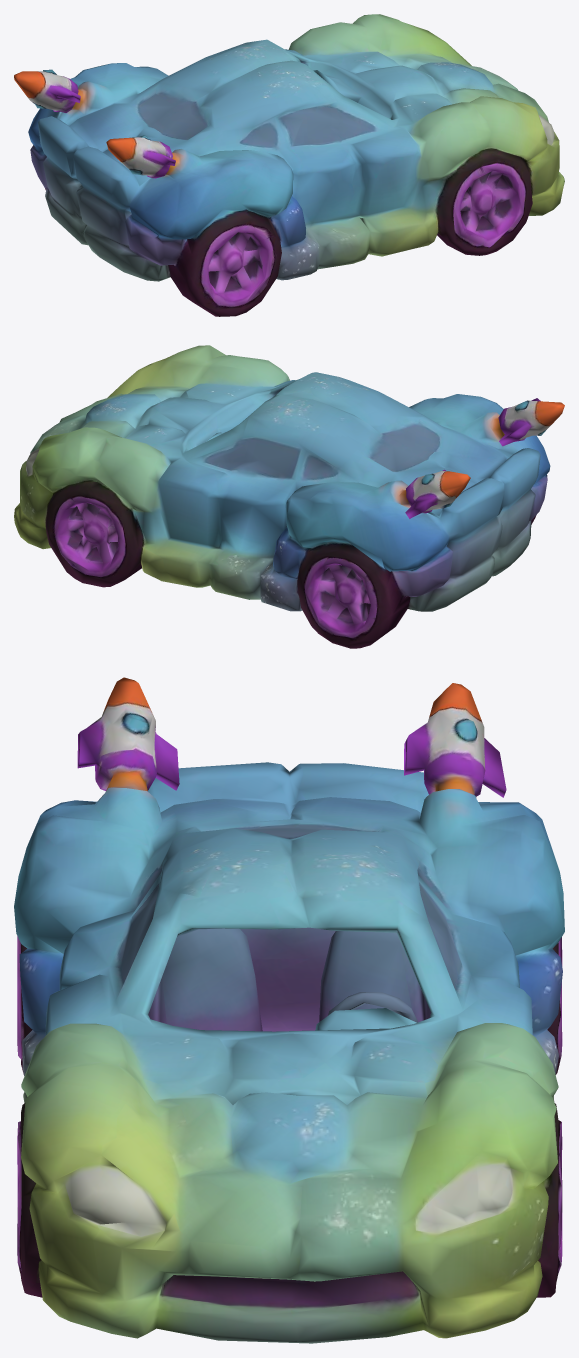
Rendered from car_jelly.glb.
3 renders of one model, top to bottom at view 1: azimuth 30°, elevation 25°; view 2: azimuth 150°, elevation 25°; view 3: azimuth 270°, elevation 25°, orthographic. The views are drawn at different scales.
Parts seen in each view (by area): view 1: tripo_node_83e07405-01b5-4e32-853d-e993426d15c2; view 2: tripo_node_83e07405-01b5-4e32-853d-e993426d15c2; view 3: tripo_node_83e07405-01b5-4e32-853d-e993426d15c2.
Part boxes in pixels (x1,y1,x2,y2): tripo_node_83e07405-01b5-4e32-853d-e993426d15c2: (14, 14, 564, 316); tripo_node_83e07405-01b5-4e32-853d-e993426d15c2: (14, 345, 564, 648); tripo_node_83e07405-01b5-4e32-853d-e993426d15c2: (14, 677, 564, 1343).
Bounding box in the file's own units: 0.9986 × 0.3672 × 0.585.
1 material, 1 textured.
